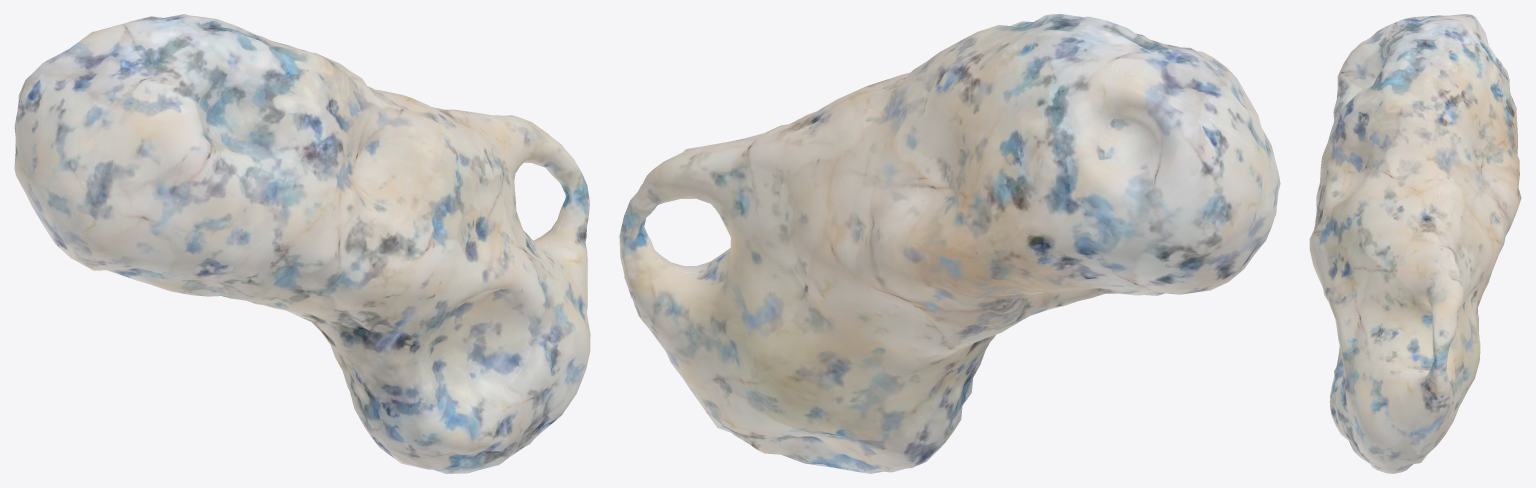
File: asteroid-minerals.glb
3 views of the same model, side by side, from view 1: azimuth 30°, elevation 25°; view 2: azimuth 150°, elevation 25°; view 3: azimuth 270°, elevation 25° (orthographic). The views are drawn at different scales.
Parts seen in each view (by area): view 1: Object_2; view 2: Object_2; view 3: Object_2.
Boxes of the visible parts, x1,y1,x2,y2 form: Object_2: (14, 14, 590, 473); Object_2: (619, 14, 1280, 473); Object_2: (1309, 14, 1521, 473).
Size of the model in its own units: 2.48 by 2 by 1.13.
1 material, 1 textured.
